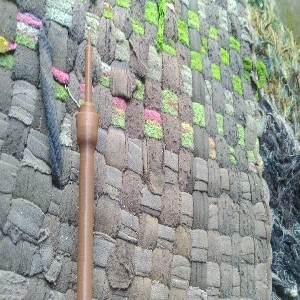solder: (75, 30, 100, 300)
